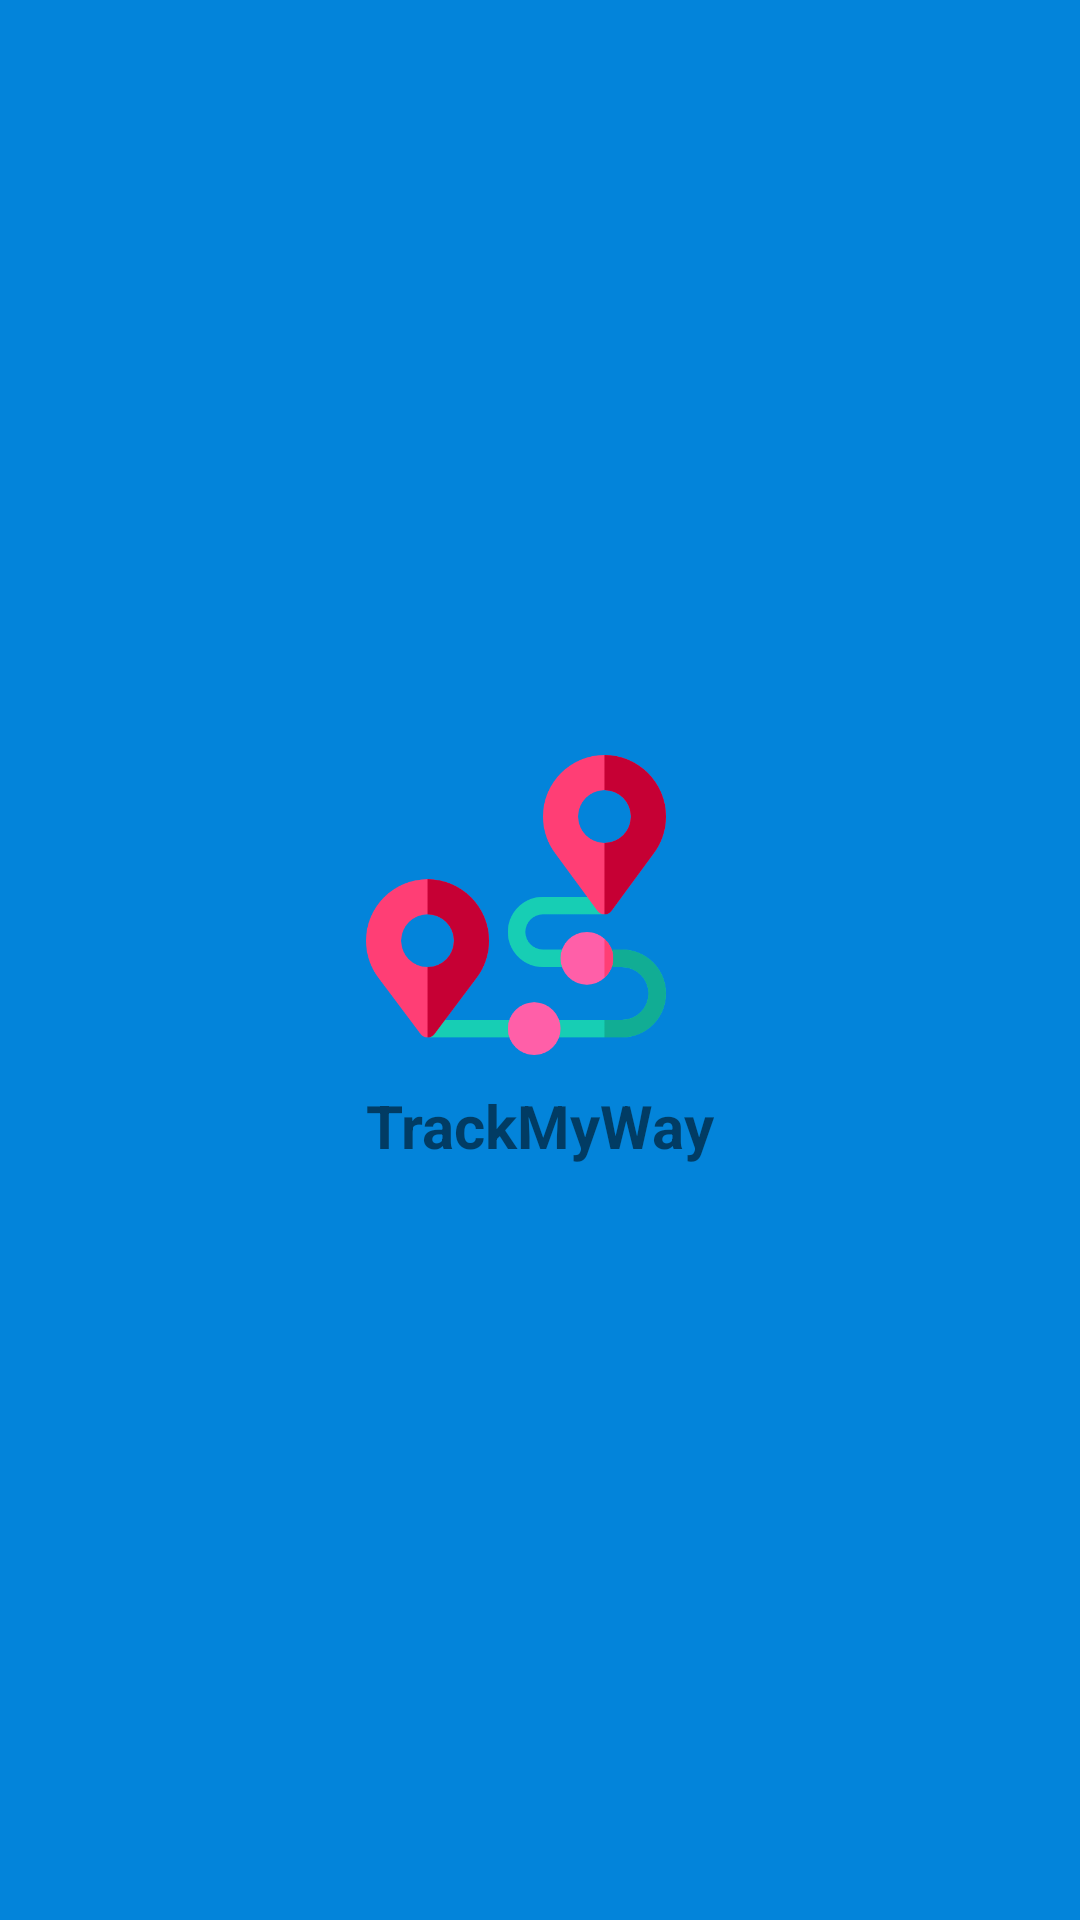

Named icons in this screenshot (1080 × 1920) and their centers, [x,y]:
location: [516,905]
